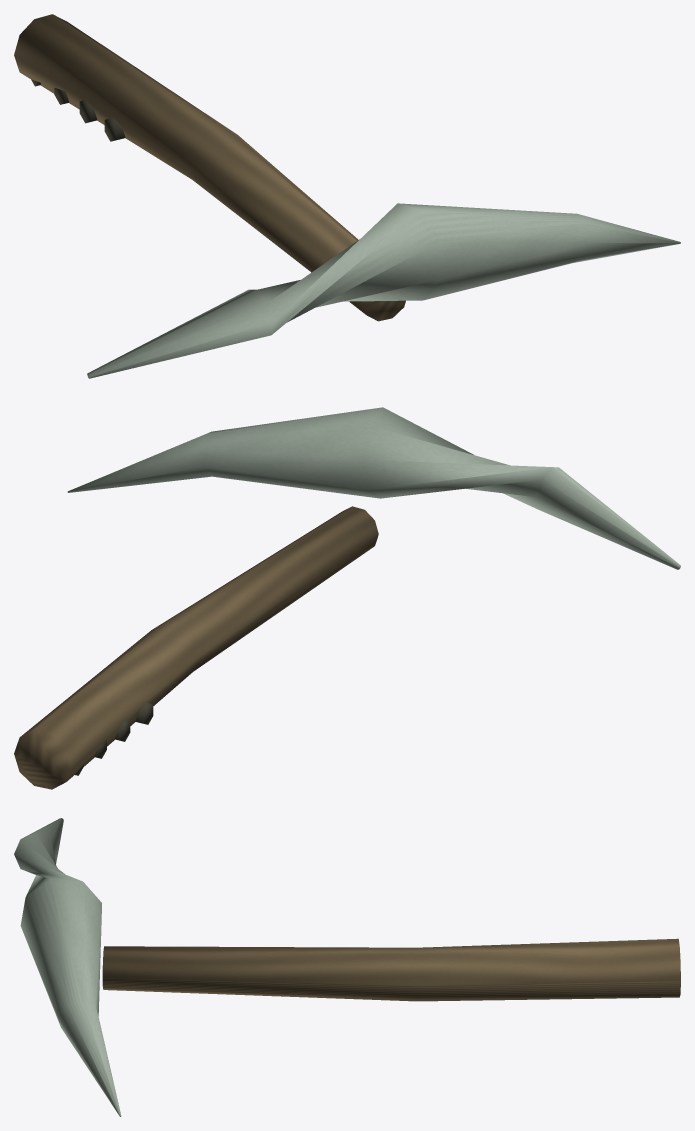
The model's file is pickaxe.glb.
3 views of the same model, one above another, from view 1: azimuth 30°, elevation 25°; view 2: azimuth 150°, elevation 25°; view 3: azimuth 270°, elevation 25° (orthographic). The views are drawn at different scales.
Parts seen in each view (by area): view 1: Surface; view 2: Surface; view 3: Surface.
Part boxes in pixels (<box>): Surface: <box>14,14,680,378</box>; Surface: <box>14,407,680,789</box>; Surface: <box>14,818,680,1116</box>.
Bounding box in the file's own units: 0.7213 × 0.1516 × 0.788.
1 material, 1 textured.
